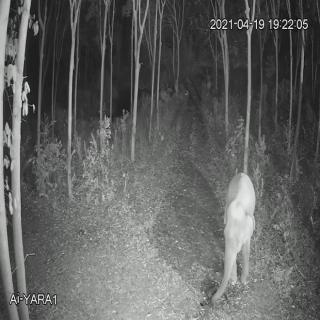Elephant: (204, 163, 258, 310)
